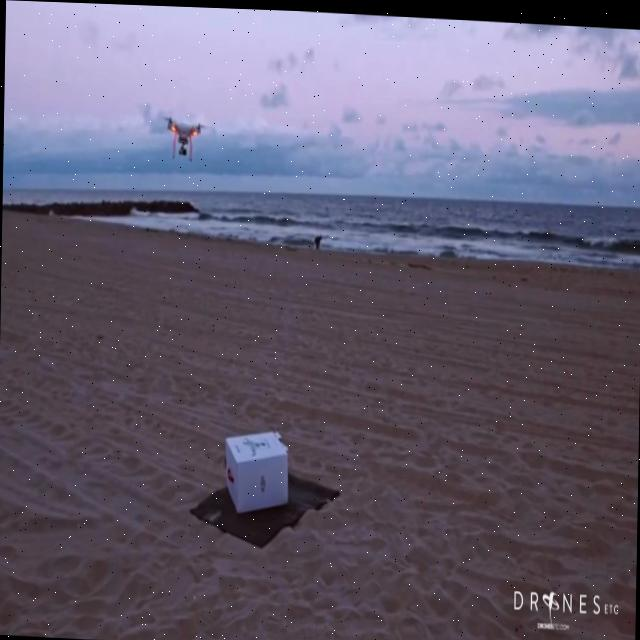drone: (162, 110, 204, 159)
